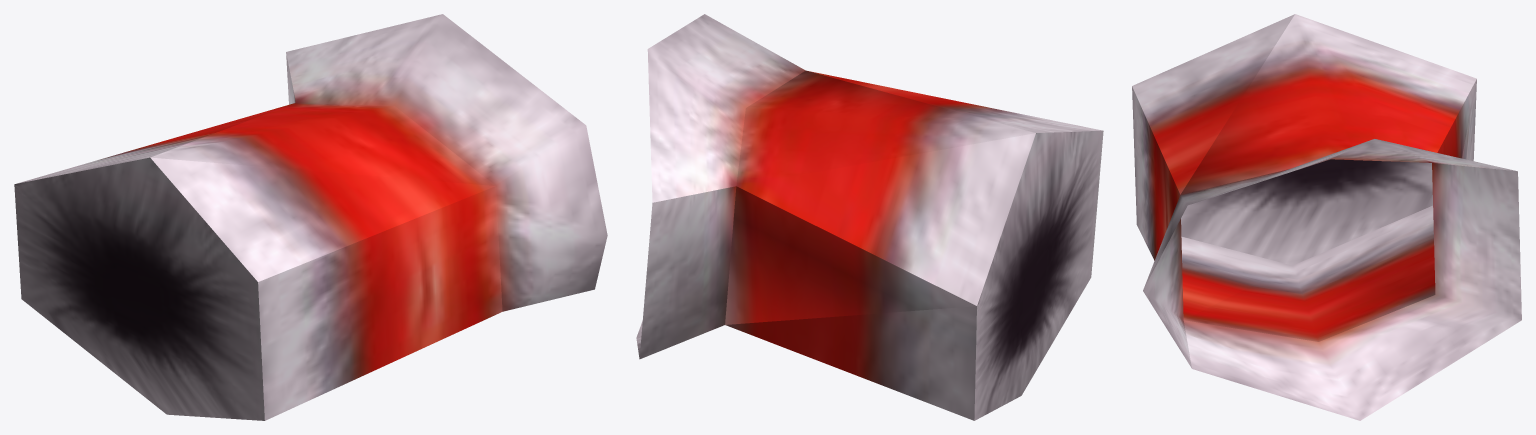
The model's file is Item14L02.FBX.
3 views of the same model, side by side, from view 1: azimuth 30°, elevation 25°; view 2: azimuth 150°, elevation 25°; view 3: azimuth 270°, elevation 25° (orthographic). The views are drawn at different scales.
Parts seen in each view (by area): view 1: item14l02; view 2: item14l02; view 3: item14l02.
Part boxes in pixels (<box>): item14l02: <box>14,14,607,420</box>; item14l02: <box>636,14,1103,420</box>; item14l02: <box>1132,14,1521,420</box>.
Size of the model in its own units: 6.41 by 4.15 by 5.36.
Materials: 2 (2 with a texture image).
